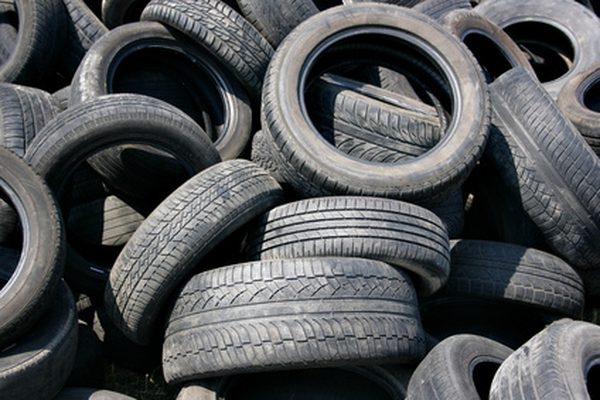tire: (260, 3, 489, 200), (92, 156, 282, 380), (152, 258, 421, 370), (458, 72, 600, 272), (71, 22, 252, 177), (220, 196, 449, 300), (383, 238, 584, 330), (136, 1, 285, 104), (401, 327, 572, 400), (1, 142, 62, 334), (491, 302, 600, 399)
